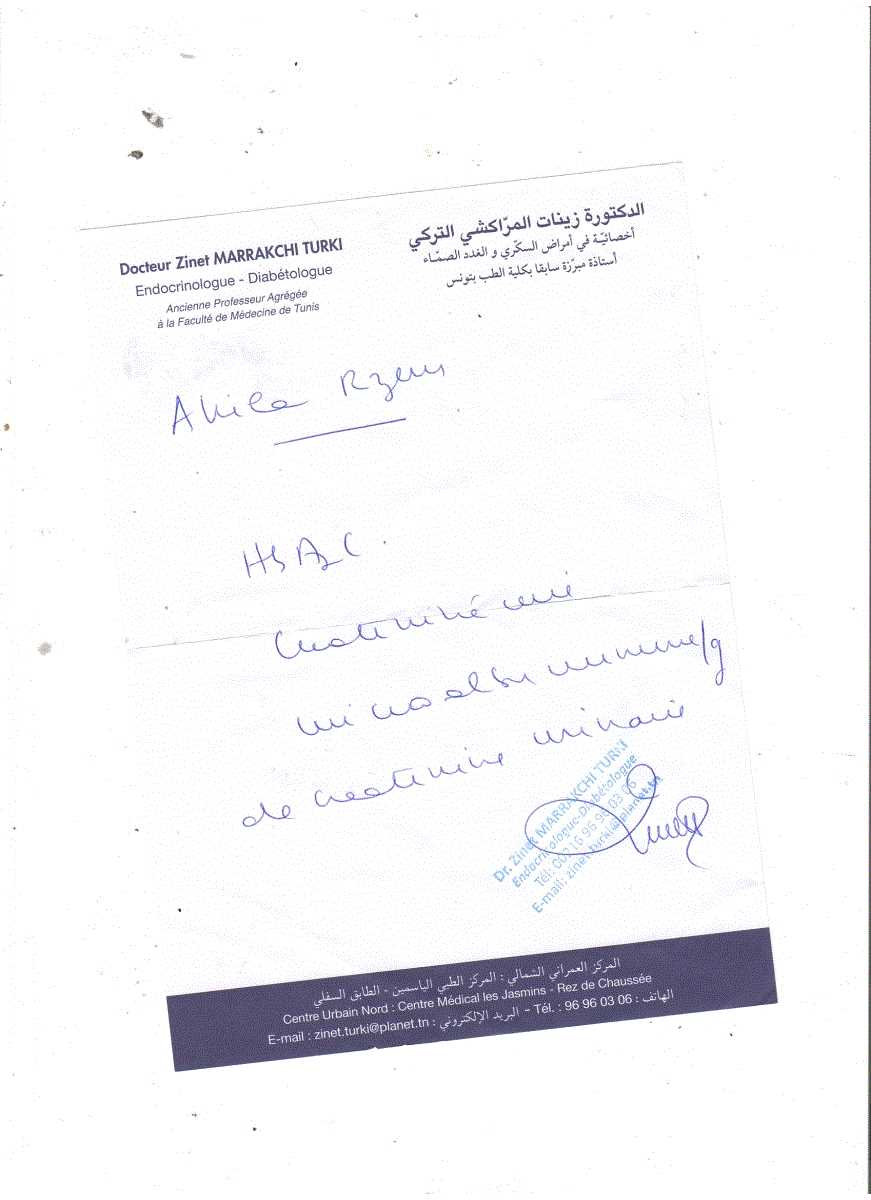zone_analyses: (122, 519, 722, 839)
zone_cachet: (466, 882, 689, 979)
zone_patient: (133, 385, 531, 458)
zone_prescripteur: (169, 997, 760, 1082), (75, 254, 386, 350)
